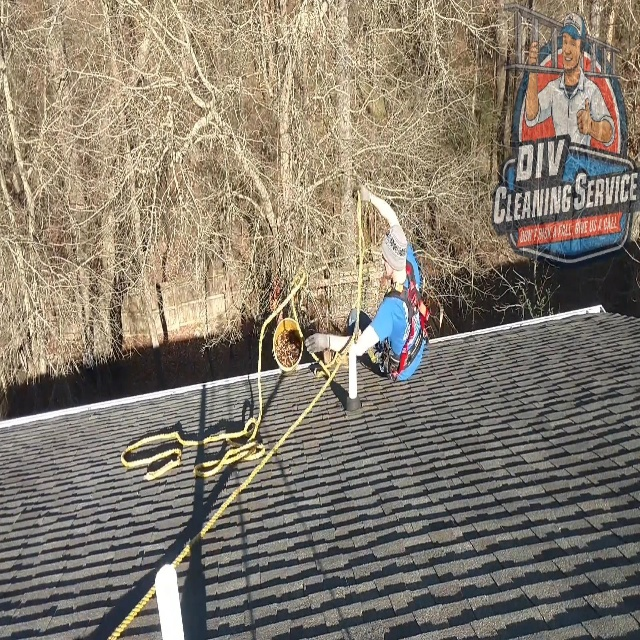Arnes_seguridad: (375, 259, 432, 381)
